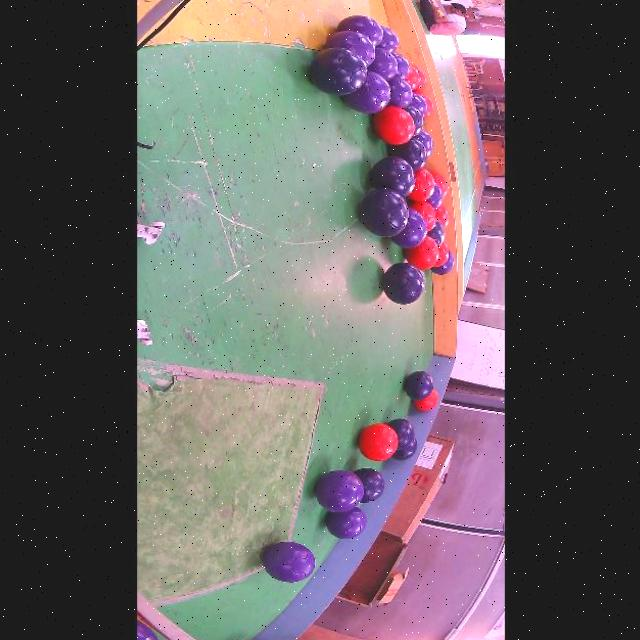B: (308, 48, 366, 96), (358, 188, 408, 237), (370, 156, 414, 197), (381, 262, 423, 304), (387, 138, 426, 170), (353, 468, 384, 504), (386, 418, 413, 450), (403, 371, 432, 400), (404, 105, 423, 136), (391, 439, 417, 460), (426, 220, 444, 246)
P: (262, 541, 315, 583), (313, 471, 363, 513), (340, 72, 390, 114), (323, 31, 375, 67), (389, 207, 426, 248), (335, 16, 382, 46), (325, 506, 366, 538), (367, 48, 396, 81), (386, 76, 412, 109), (377, 26, 398, 53), (430, 252, 454, 275), (414, 131, 432, 157), (391, 53, 409, 78), (409, 92, 426, 117), (136, 620, 157, 640), (426, 184, 442, 209)
R: (372, 106, 413, 145), (357, 423, 396, 462), (403, 235, 437, 270), (407, 168, 433, 201), (409, 201, 435, 232), (412, 389, 437, 412), (430, 172, 448, 197), (432, 242, 448, 267), (404, 65, 419, 90), (433, 205, 449, 228), (419, 94, 432, 119), (414, 67, 426, 91)
